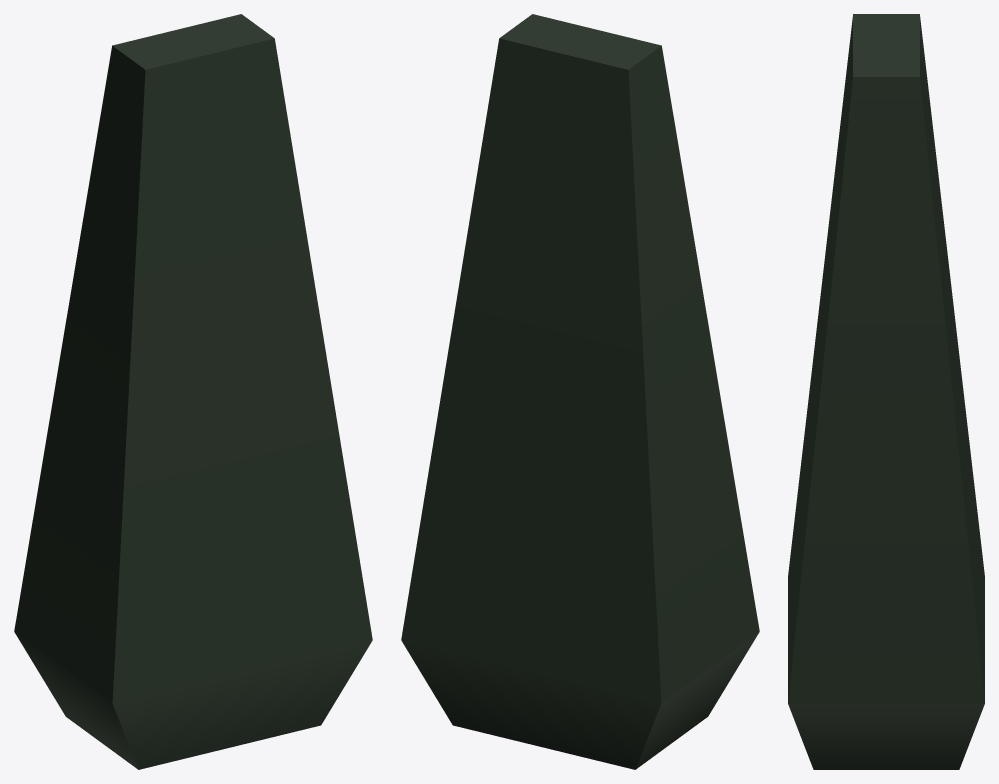
Rendered from SF_Prop_StandingStone_06.glb.
3 views of the same model, side by side, from view 1: azimuth 30°, elevation 25°; view 2: azimuth 150°, elevation 25°; view 3: azimuth 270°, elevation 25° (orthographic).
Parts seen in each view (by area): view 1: SF_Env_StandingStone_06; view 2: SF_Env_StandingStone_06; view 3: SF_Env_StandingStone_06.
Boxes of the visible parts, x1,y1,x2,y2 form: SF_Env_StandingStone_06: (14, 14, 372, 769); SF_Env_StandingStone_06: (401, 14, 759, 769); SF_Env_StandingStone_06: (788, 14, 984, 769).
Bounding box in the file's own units: 0.00914 × 0.0228 × 0.00599.
1 material, 1 textured.
